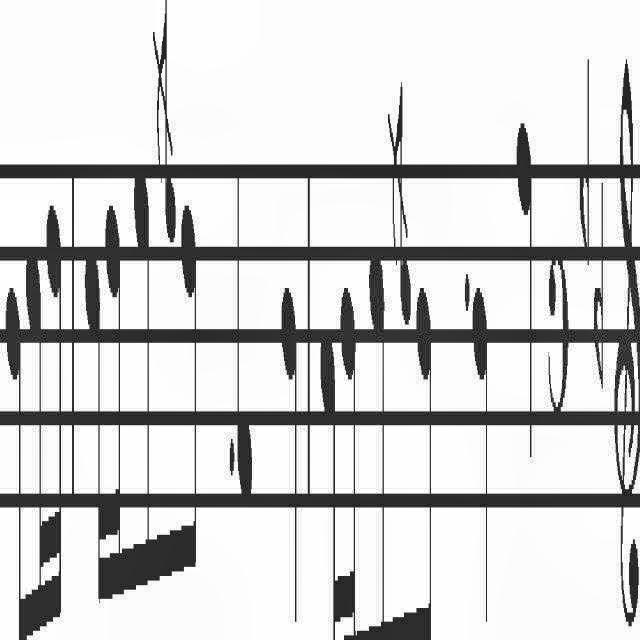Bass-clef: (612, 36, 640, 640)
Bemol: (592, 136, 608, 412), (578, 50, 594, 278)
Eighth-note: (177, 127, 201, 628), (132, 132, 152, 640), (414, 256, 440, 640), (367, 215, 388, 640), (5, 247, 23, 640)
Quarter-note: (507, 89, 538, 503), (234, 127, 258, 571), (277, 256, 303, 640), (472, 228, 496, 640)
Sixteenth-note: (79, 215, 104, 640), (46, 164, 66, 640), (24, 215, 44, 640), (340, 236, 360, 640), (106, 178, 122, 640), (318, 288, 338, 640)
